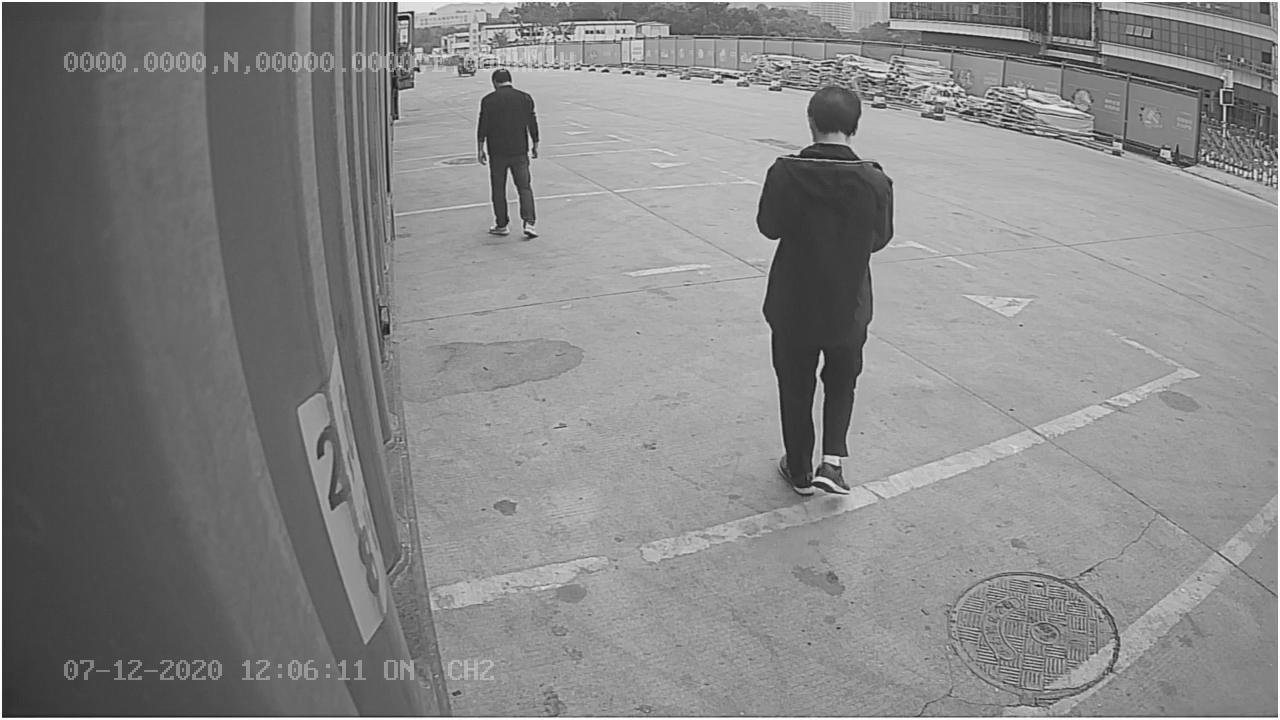person: (752, 84, 910, 500)
